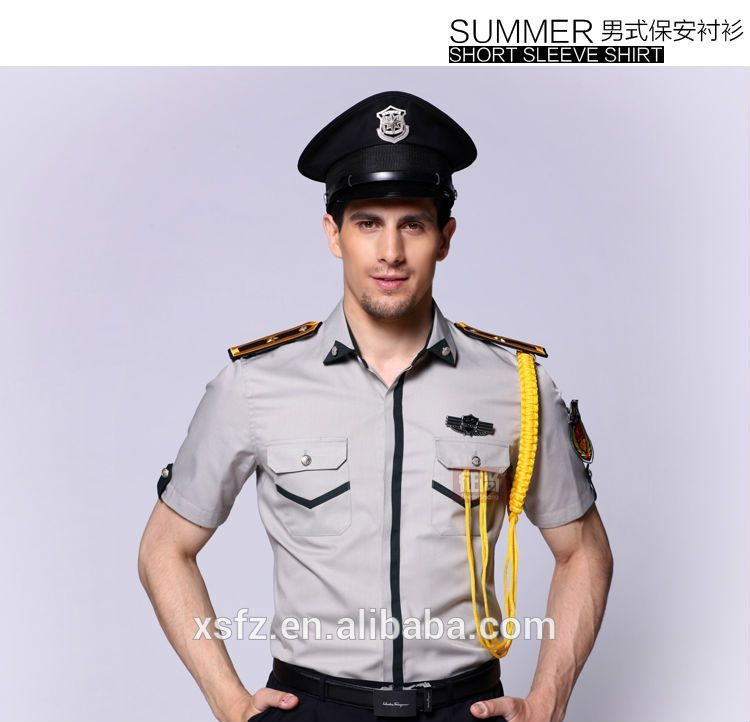uniform: (194, 282, 591, 685)
